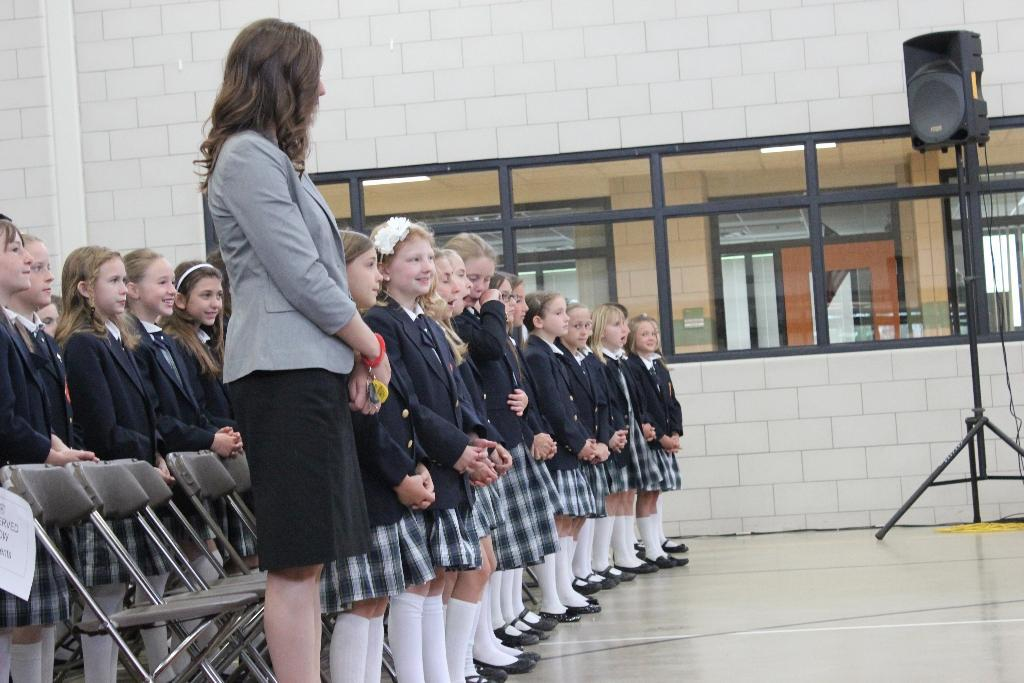face: (273, 47, 328, 123), (394, 243, 435, 294), (139, 261, 177, 316), (349, 251, 386, 306), (90, 262, 128, 313), (1, 231, 31, 290), (432, 259, 461, 317), (26, 245, 54, 305), (187, 282, 224, 326), (448, 255, 473, 314), (466, 259, 494, 307), (33, 304, 59, 349), (546, 301, 569, 336), (498, 280, 516, 322), (571, 312, 591, 348), (512, 287, 529, 326), (608, 318, 626, 349), (640, 323, 657, 352), (649, 321, 661, 350)
